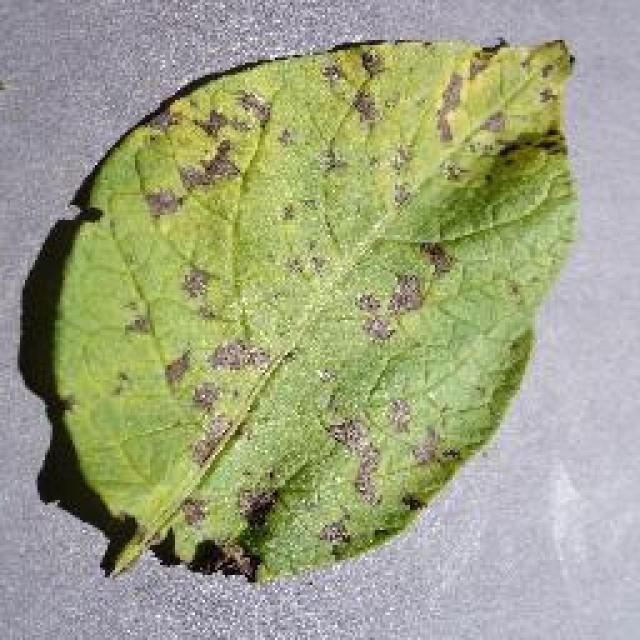early_blight: (38, 32, 582, 588)
